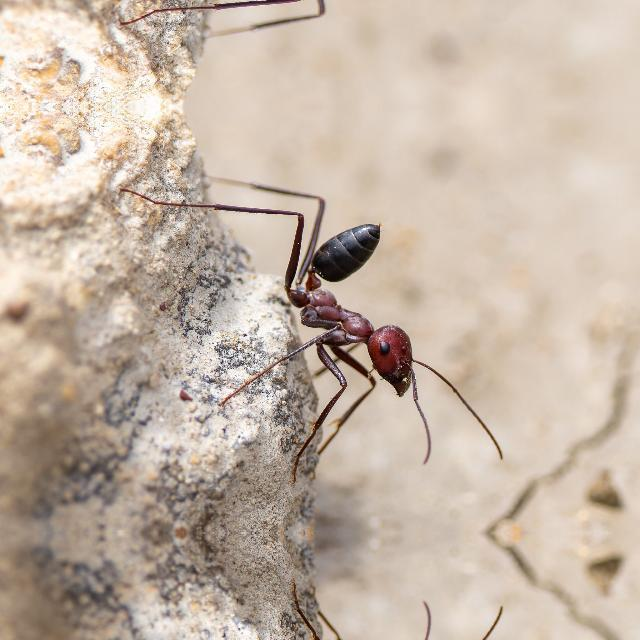Cataglyphis: (252, 193, 450, 405)
